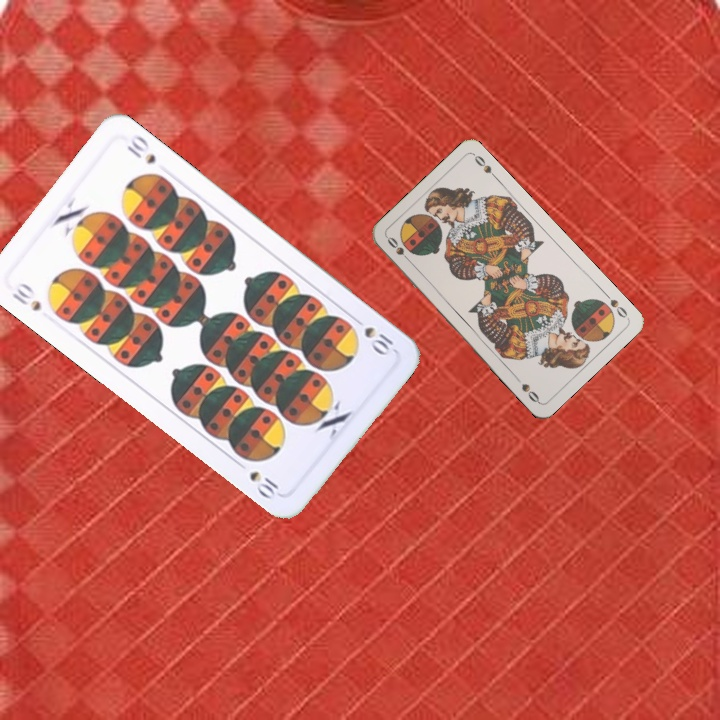S10: (348, 312, 396, 359), (7, 278, 44, 314)
SO: (383, 233, 414, 266), (600, 288, 631, 321)
